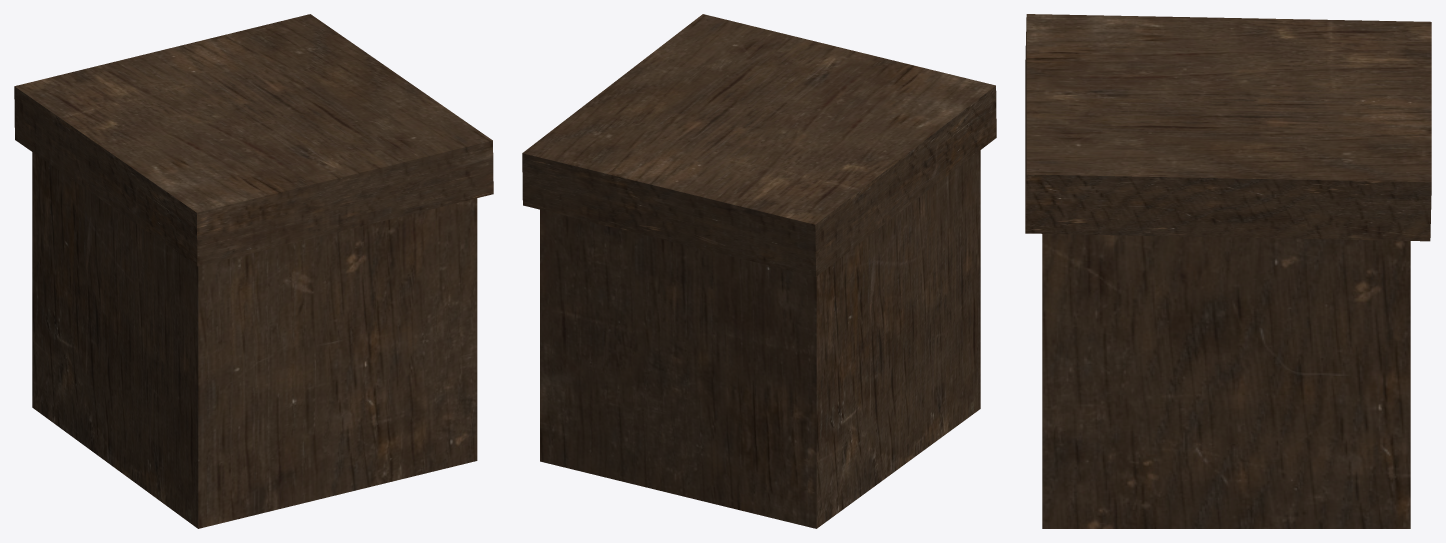
Rendered from JackB_OGPos.fbx.
3 renders of one model, left to right at view 1: azimuth 30°, elevation 25°; view 2: azimuth 150°, elevation 25°; view 3: azimuth 270°, elevation 25°, orthographic. The views are drawn at different scales.
Visible parts, largest first — view 1: J_Box, J_Box_Lid; view 2: J_Box, J_Box_Lid; view 3: J_Box, J_Box_Lid.
Part boxes in pixels (x1,y1,x2,y2): J_Box: [32, 152, 477, 528]; J_Box_Lid: [14, 14, 493, 266]; J_Box: [540, 150, 980, 528]; J_Box_Lid: [522, 14, 996, 276]; J_Box: [1042, 234, 1410, 528]; J_Box_Lid: [1025, 14, 1431, 241].
Size of the model in its own units: 13.05 by 13.62 by 13.98.
Materials: 1 (1 with a texture image).
